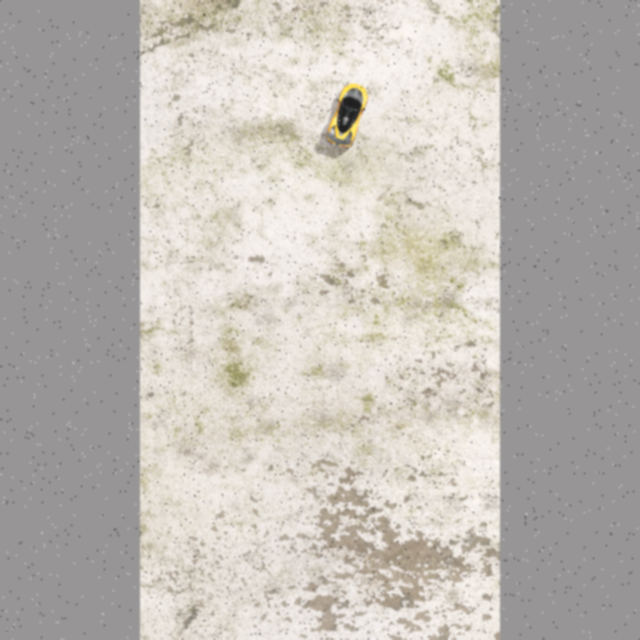car: (322, 75, 373, 153)
